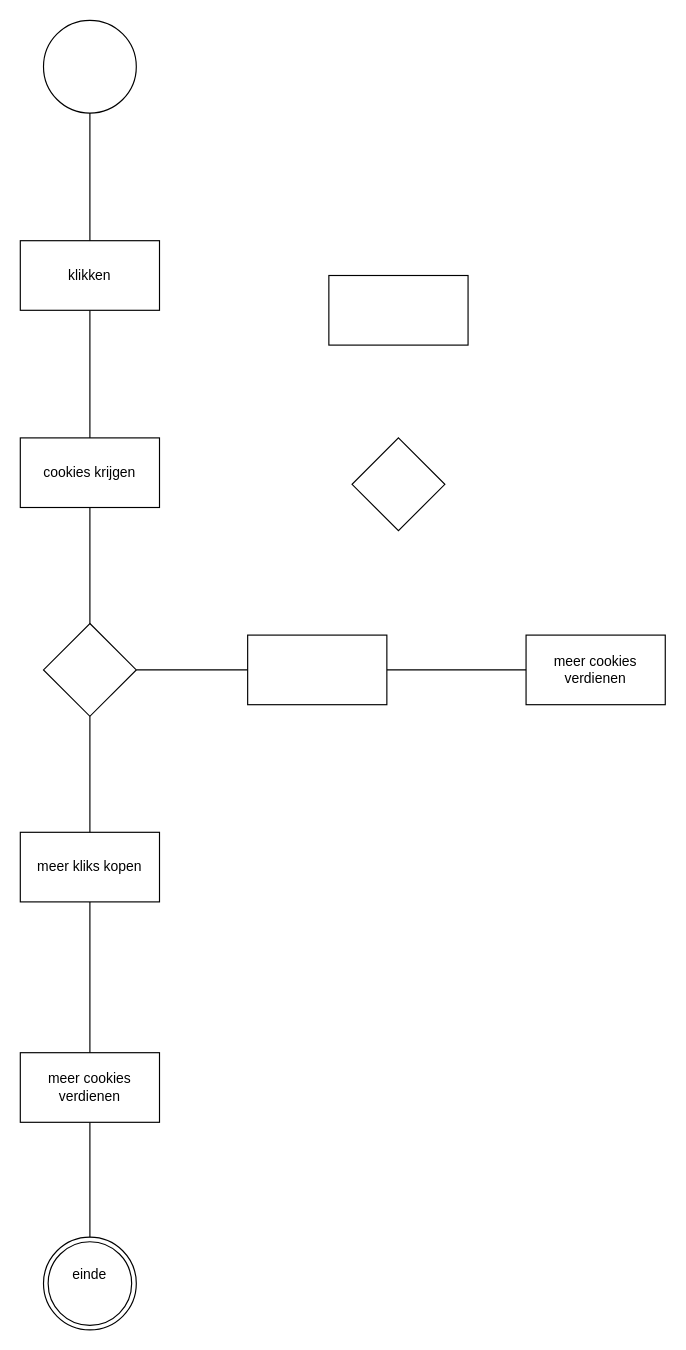
This 686x1350 diagram has some shape labels left out. The centre of each missing label's shape, as x and y in pixels:
betere mappen kopen: (x=316, y=669)
Cookie klikker: (x=89, y=66)
cookies spenderen: (x=89, y=669)
